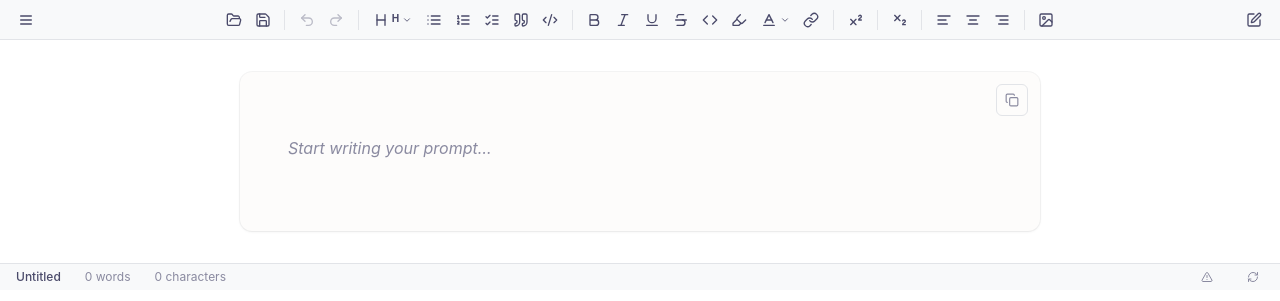
Test case: Editor › saves to a new path via the save dialog when no current file
Click the button named "save file" at [263, 20], box [249,6,277,34]
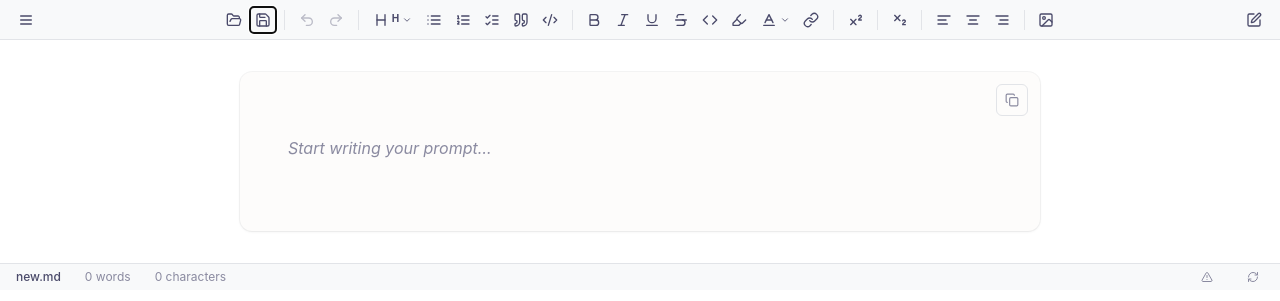
Result: the text "new.md" is shown at [16,269,61,284]
